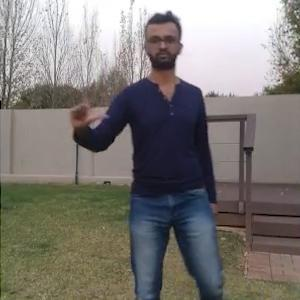land_hand: (65, 84, 110, 131)
